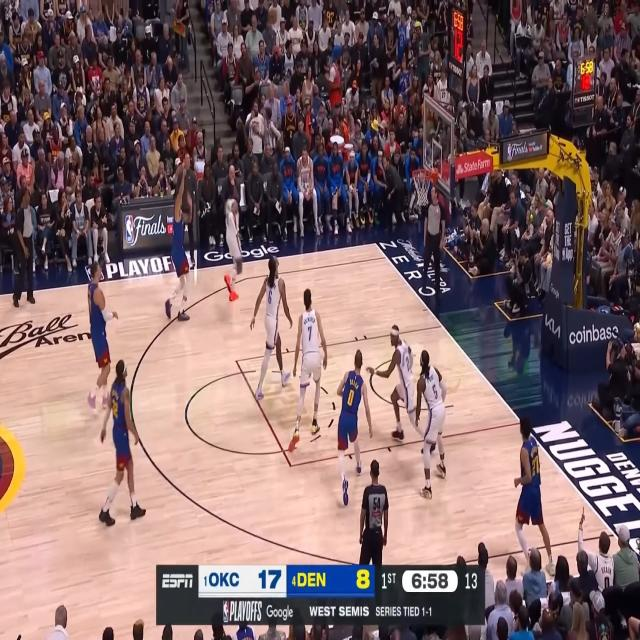ball: (268, 7, 278, 23)
number: (531, 454, 540, 478), (348, 386, 356, 408), (266, 287, 273, 305), (432, 381, 438, 398), (405, 354, 410, 371), (307, 326, 313, 339)
player: (365, 324, 435, 456), (97, 356, 146, 525), (512, 417, 558, 578), (288, 286, 328, 451), (250, 255, 292, 401), (336, 348, 374, 506), (85, 258, 120, 414), (414, 347, 447, 498), (165, 164, 191, 323), (221, 178, 244, 303)
referee: (357, 459, 390, 564), (10, 187, 37, 308), (421, 185, 446, 292)
rim: (411, 166, 434, 182)
